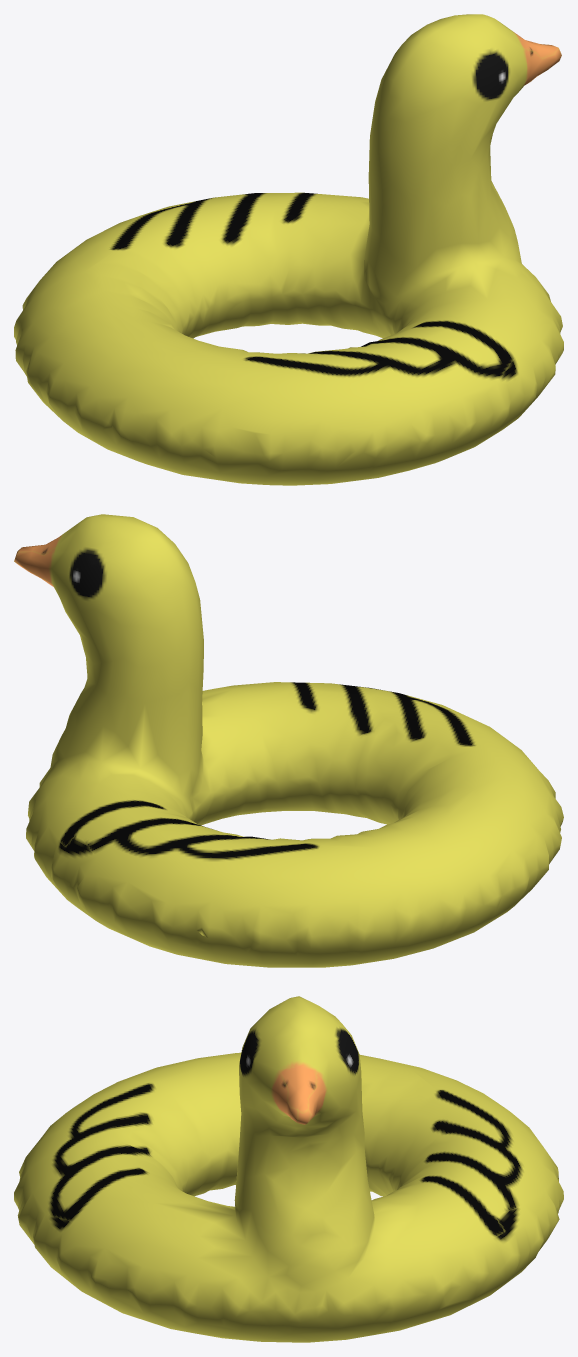
File: duck-floatie-c8f58c.glb
3 renders of one model, top to bottom at view 1: azimuth 30°, elevation 25°; view 2: azimuth 150°, elevation 25°; view 3: azimuth 270°, elevation 25°, orthographic. The views are drawn at different scales.
Parts seen in each view (by area): view 1: PropMesh; view 2: PropMesh; view 3: PropMesh.
Boxes of the visible parts, x1=… form: PropMesh: x1=14, y1=14, x2=563, y2=485; PropMesh: x1=14, y1=514, x2=563, y2=967; PropMesh: x1=14, y1=996, x2=563, y2=1342.
Bounding box in the file's own units: 2.1 × 1.29 × 1.94.
Materials: 1 (1 with a texture image).
